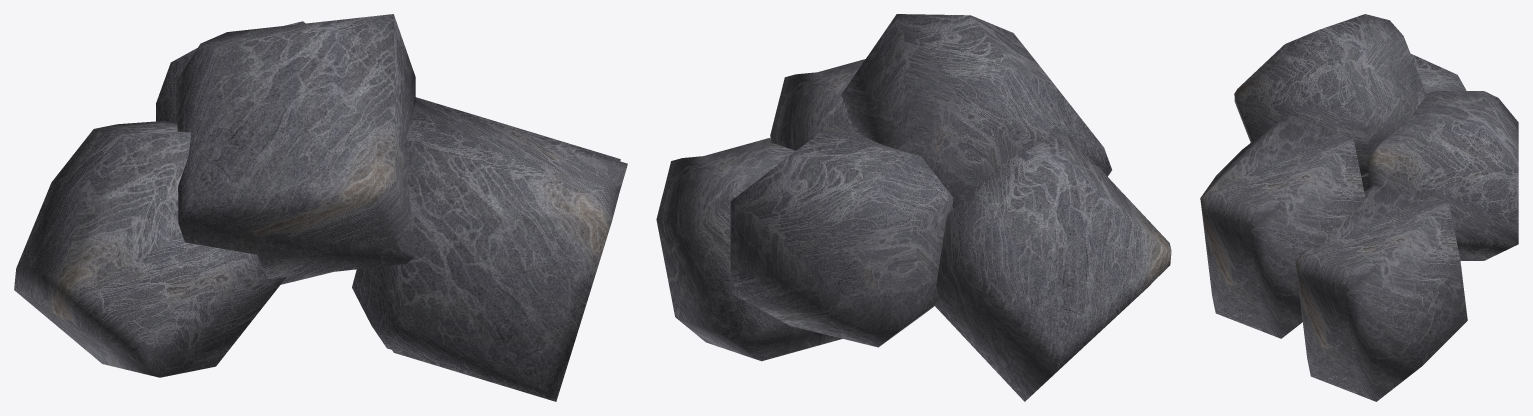
The model's file is Piedra.fbx.
3 views of the same model, side by side, from view 1: azimuth 30°, elevation 25°; view 2: azimuth 150°, elevation 25°; view 3: azimuth 270°, elevation 25° (orthographic). The views are drawn at different scales.
Parts seen in each view (by area): view 1: Cube.010; view 2: Cube.010; view 3: Cube.010.
Boxes of the visible parts, x1=… form: Cube.010: x1=14, y1=14, x2=627, y2=401; Cube.010: x1=656, y1=14, x2=1171, y2=401; Cube.010: x1=1200, y1=14, x2=1518, y2=401.
Bounding box in the file's own units: 595 × 417 × 424.
